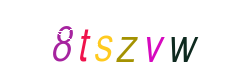8: (44, 0, 124, 80)
S: (76, 0, 156, 80)
T: (57, 0, 137, 80)
V: (85, 0, 165, 80)
W: (142, 0, 222, 80)
Z: (78, 0, 158, 80)
